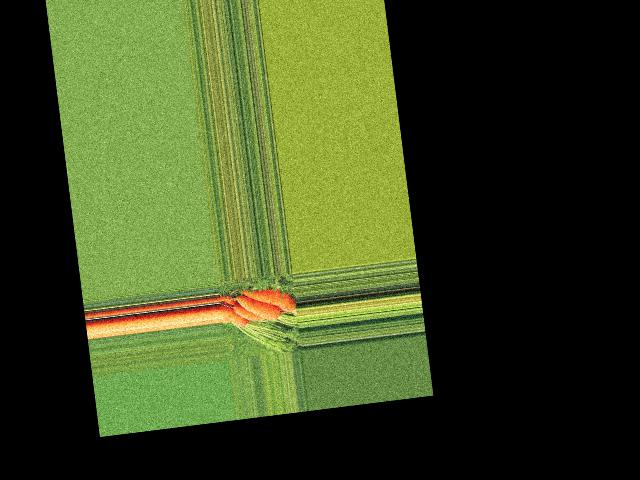carrot: (222, 300, 248, 331)
